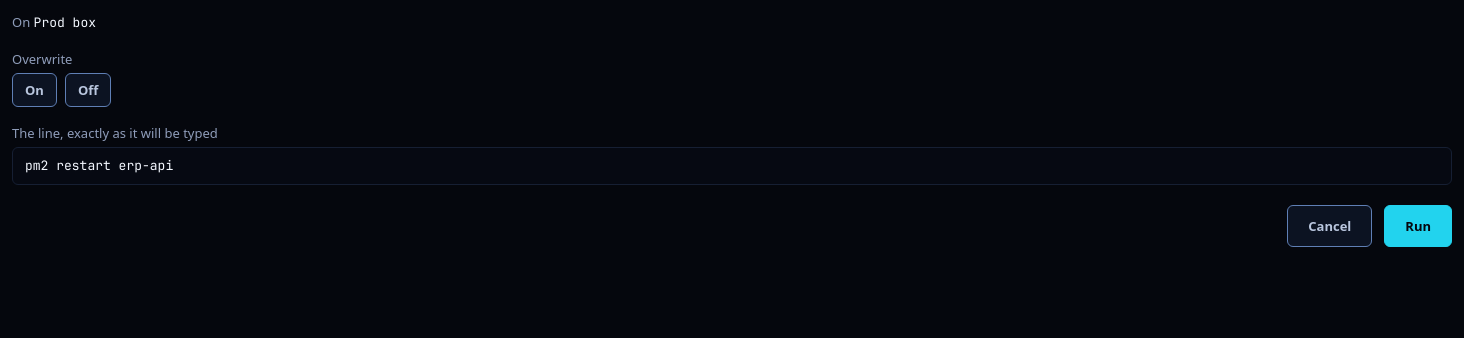
Test: ActionForm — which fields are on screen › hides a gated field until its condition holds, then composes with it
Expected: the text "pm2 restart erp-api" is shown, [12, 147, 1452, 185]
Expected: the text "Backup name" is not shown
Click the button "On" at (34, 90), box [12, 73, 57, 107]
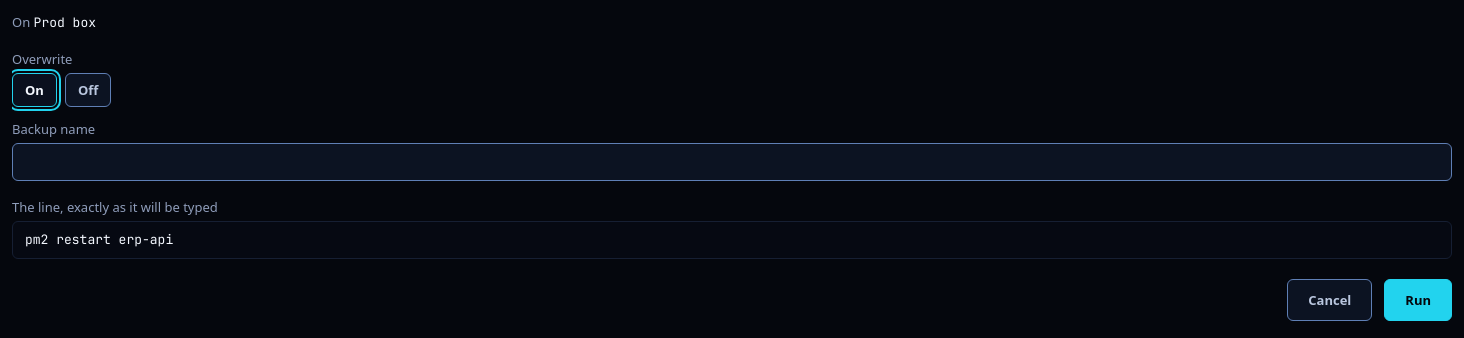
Result: the text "Backup name" is shown at [12, 120, 95, 138]
